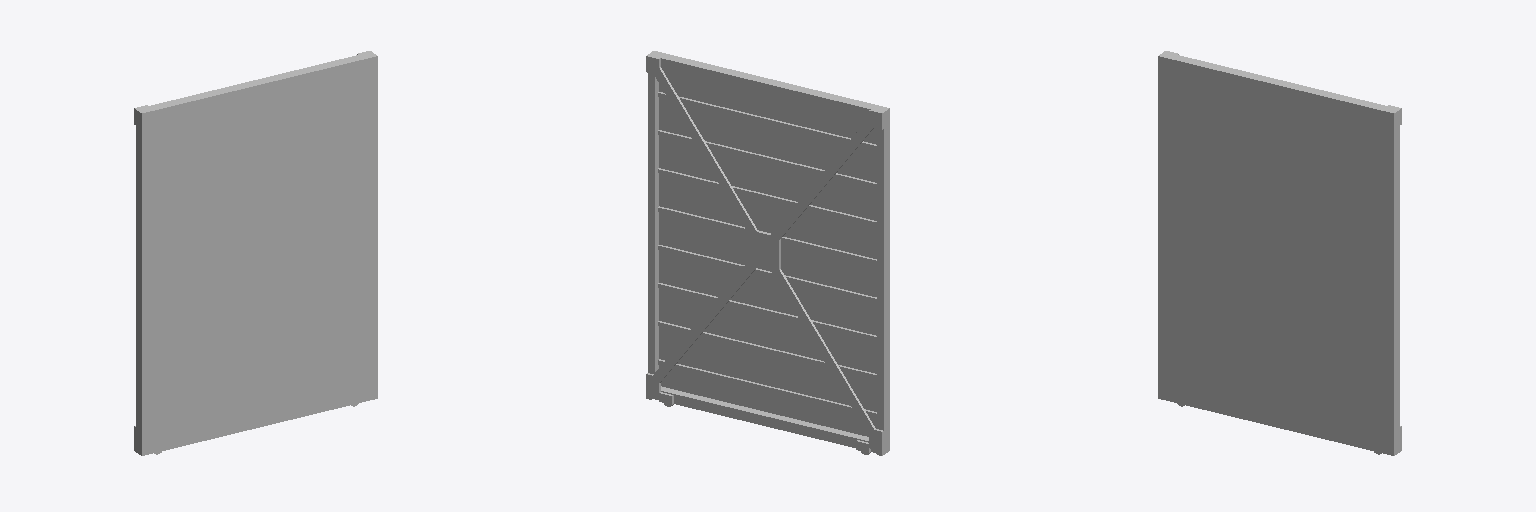
File: f_door_l1.obj
The picture shows the model from 3 angles: view 1: azimuth 30°, elevation 25°; view 2: azimuth 150°, elevation 25°; view 3: azimuth 330°, elevation 25°; orthographic projection.
Bounding box in the file's own units: 1067 × 1502 × 58.95.